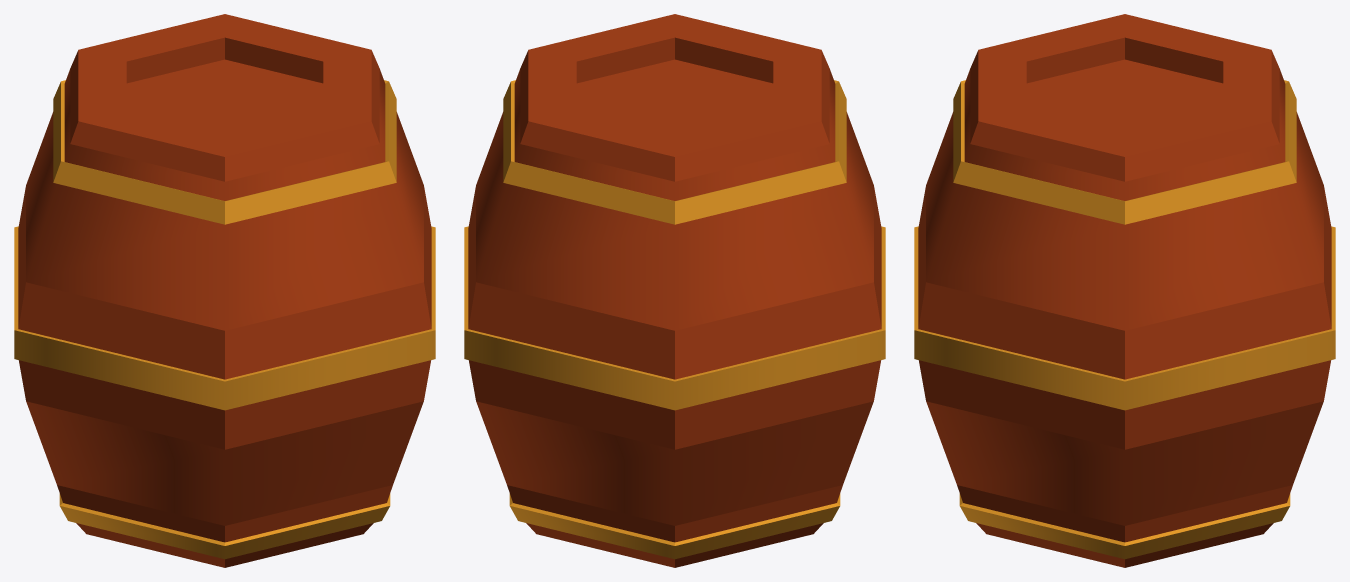
The model's file is Barrell 003.FBX.
The picture shows the model from 3 angles, left to right: view 1: azimuth 30°, elevation 25°; view 2: azimuth 150°, elevation 25°; view 3: azimuth 270°, elevation 25°; orthographic projection.
Visible parts, largest first — view 1: Barrel 003; view 2: Barrel 003; view 3: Barrel 003.
Boxes of the visible parts, x1,y1,x2,y2 form: Barrel 003: (14,14,435,567); Barrel 003: (464,14,885,567); Barrel 003: (914,14,1335,567).
Bounding box in the file's own units: 1.06 × 1 × 0.9214.
